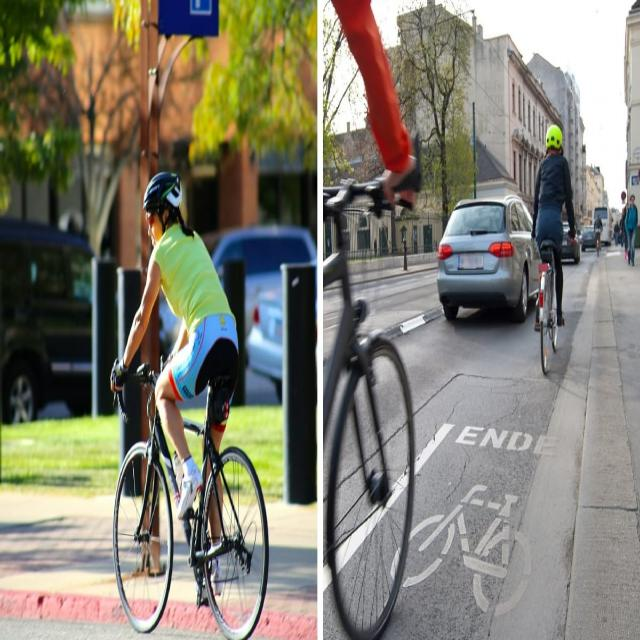car: (438, 187, 540, 325)
